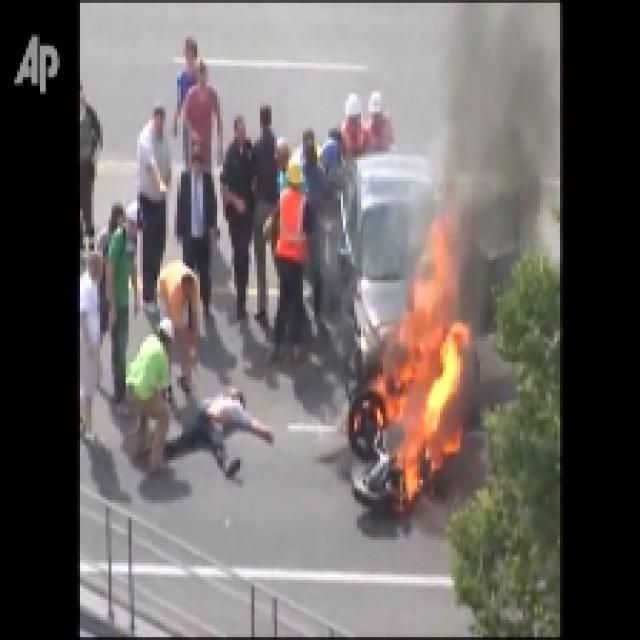Fire: (366, 220, 472, 503)
Smoke: (412, 6, 554, 220)
